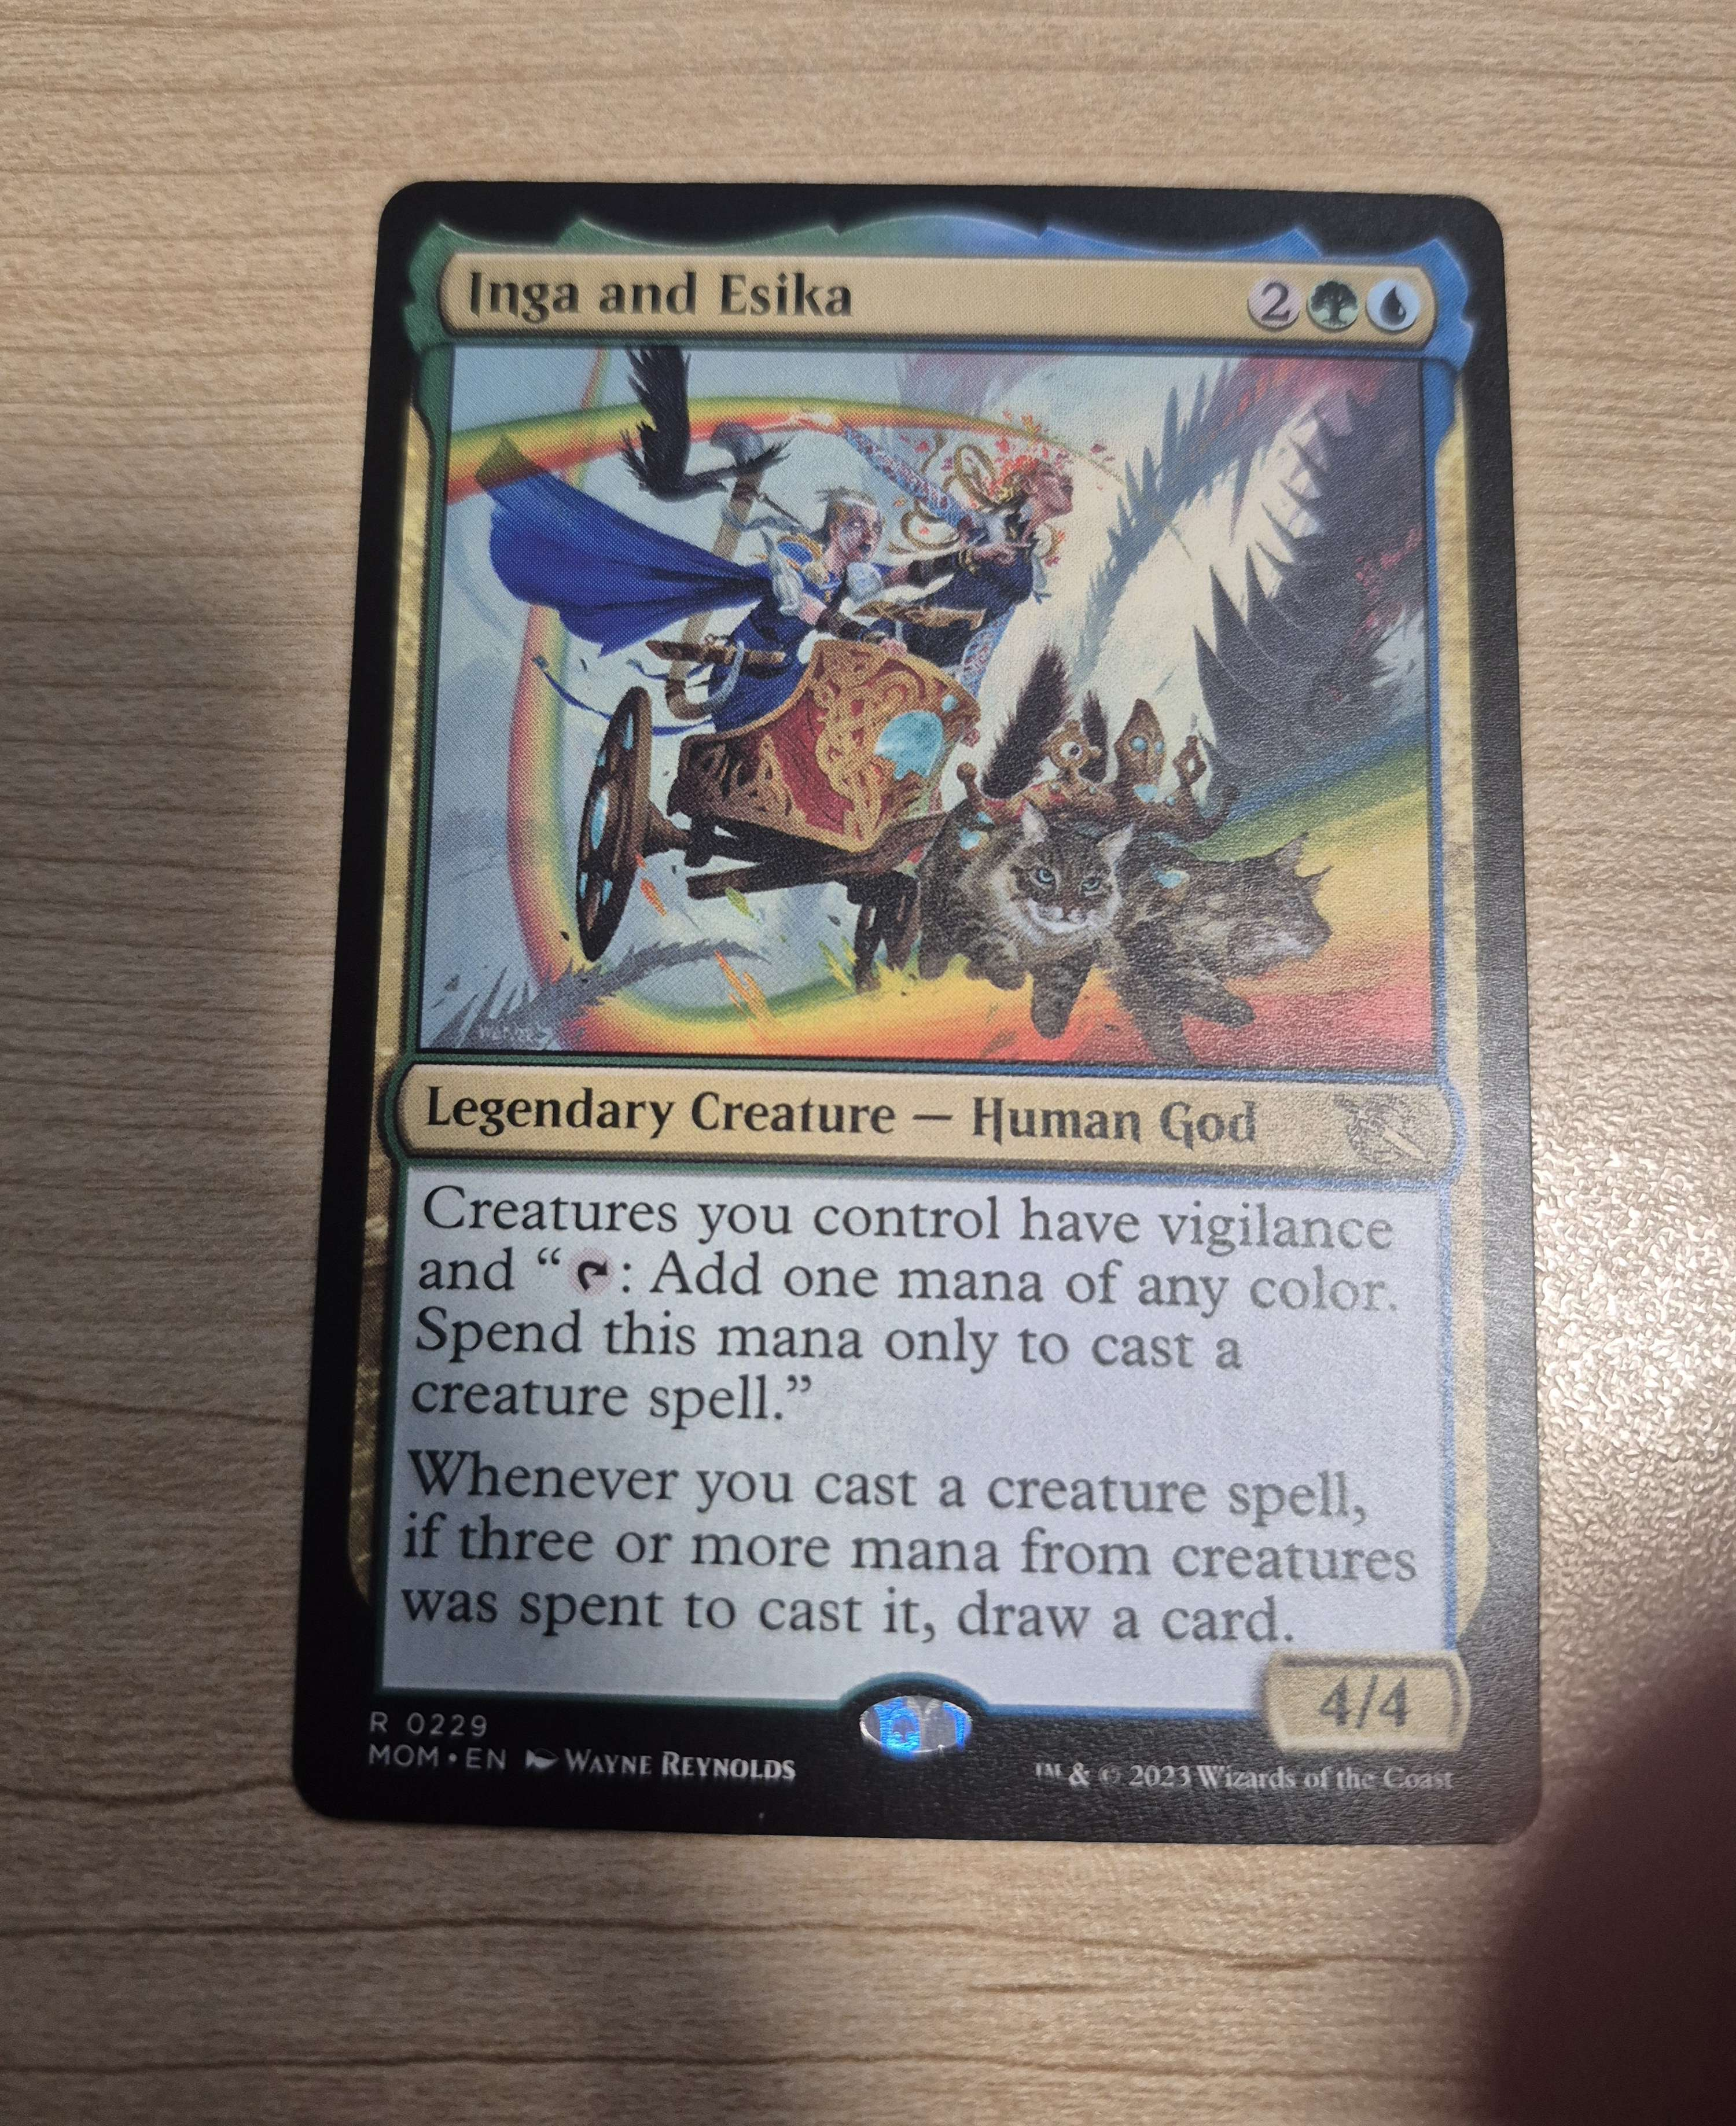mtg_card: (328, 159, 1646, 1875)
